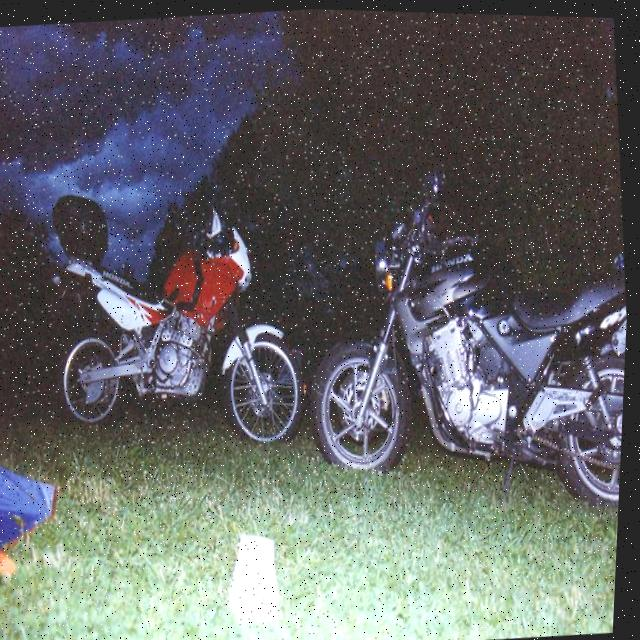motorcycle: (285, 164, 633, 533), (27, 160, 318, 471)
